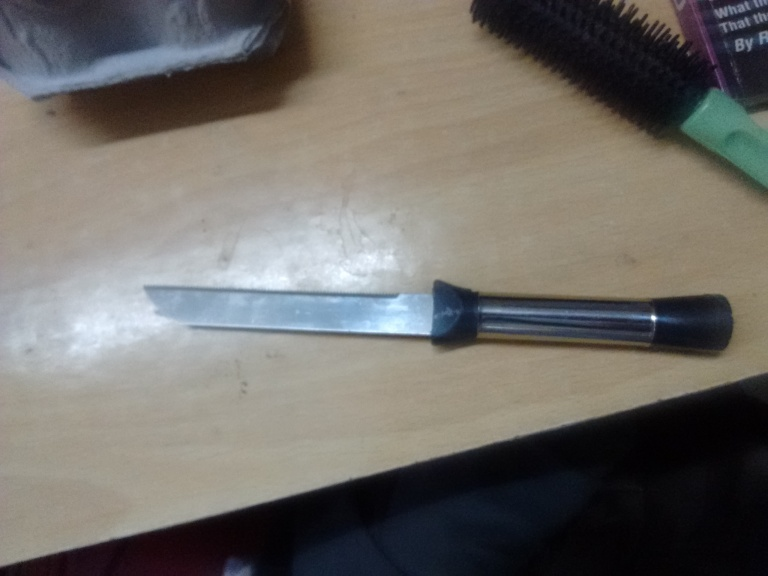knife: (141, 276, 741, 354)
